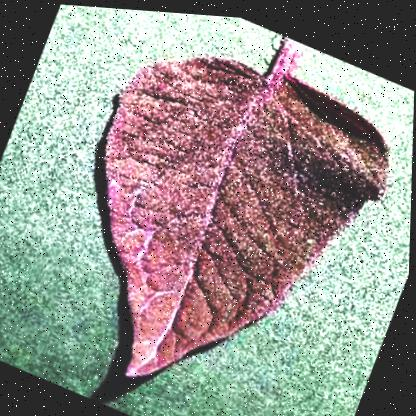Healthy: (20, 1, 416, 415)
